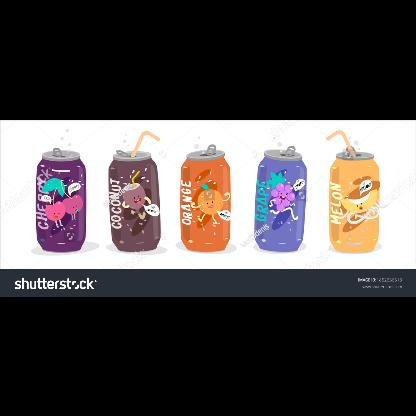Lid_Open: (186, 142, 232, 164), (116, 145, 142, 176), (270, 142, 294, 168), (48, 141, 72, 165), (342, 145, 362, 161)
Tin_Can: (167, 132, 245, 258), (323, 140, 395, 266), (104, 143, 166, 255), (255, 141, 308, 263), (33, 146, 89, 256)
